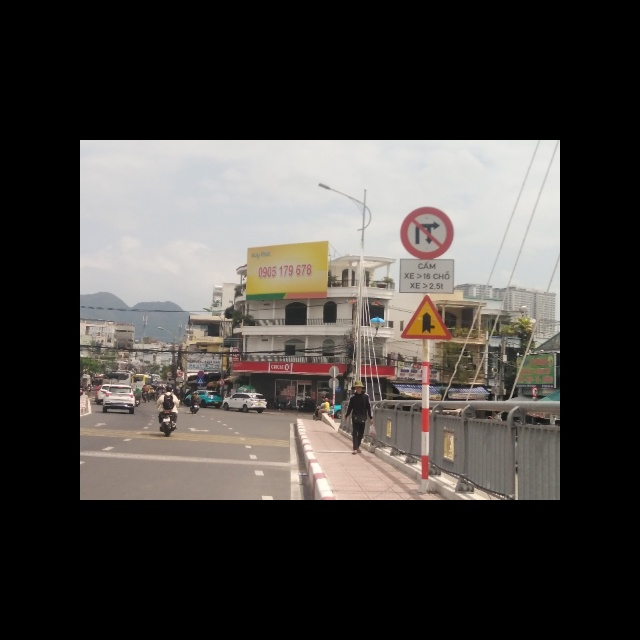Cấm quay đầu và rẽ phải: (400, 206, 454, 262)
Giao nhau với đường không ưu tiên: (401, 297, 450, 342)
